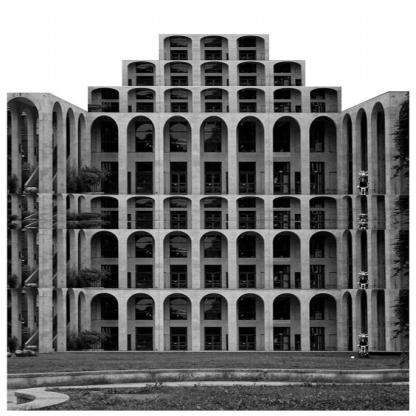Balcony: (7, 98, 39, 353), (371, 102, 386, 351), (52, 101, 63, 352), (356, 108, 367, 351), (342, 113, 353, 351), (399, 102, 409, 351), (66, 108, 76, 351), (310, 115, 338, 194), (237, 115, 265, 194), (127, 115, 155, 194), (91, 115, 119, 194), (200, 115, 228, 194), (164, 115, 192, 194), (273, 115, 301, 194), (78, 113, 86, 351), (310, 230, 337, 288), (200, 230, 227, 288), (236, 230, 263, 288), (164, 230, 191, 288), (91, 230, 118, 288), (127, 230, 154, 288), (273, 230, 300, 288), (310, 293, 337, 351), (200, 293, 227, 351), (236, 293, 263, 351), (164, 293, 191, 351), (127, 293, 154, 351), (273, 293, 300, 351), (91, 293, 118, 351), (273, 196, 301, 229), (309, 196, 337, 229), (236, 196, 264, 229), (164, 196, 192, 229), (200, 196, 228, 229), (91, 196, 118, 229), (127, 196, 154, 229), (201, 35, 229, 60), (164, 35, 192, 60), (238, 35, 266, 60), (91, 88, 119, 112), (310, 88, 338, 112), (128, 88, 156, 112), (201, 88, 229, 112), (164, 88, 192, 112), (238, 88, 266, 112), (274, 88, 302, 112), (128, 62, 156, 86), (201, 62, 229, 86), (164, 62, 192, 86), (238, 62, 266, 86), (274, 62, 302, 86)
Building Outline: (7, 34, 409, 354)
Door: (102, 335, 118, 351), (308, 335, 324, 351), (171, 335, 187, 351), (137, 335, 153, 351), (205, 335, 221, 351), (239, 335, 255, 351), (274, 335, 290, 351)
Facade: (7, 33, 410, 354)
Window: (101, 122, 119, 153), (239, 122, 257, 153), (306, 122, 324, 153), (272, 122, 290, 153), (136, 122, 153, 153), (170, 122, 187, 153), (204, 122, 221, 153), (306, 265, 323, 288), (102, 265, 119, 288), (238, 265, 255, 288), (273, 265, 290, 288), (170, 265, 187, 288), (136, 265, 153, 288), (306, 298, 323, 320), (102, 298, 119, 320), (238, 298, 255, 320), (273, 298, 290, 320), (170, 298, 187, 320), (136, 298, 153, 320), (306, 236, 323, 258), (102, 236, 119, 258), (238, 236, 255, 258), (273, 236, 290, 258), (170, 236, 187, 258), (136, 236, 153, 258), (205, 265, 221, 288), (205, 236, 221, 258), (205, 298, 221, 320), (306, 174, 323, 194), (102, 174, 119, 194), (239, 174, 256, 194), (273, 174, 290, 194), (170, 174, 187, 194), (136, 174, 153, 194), (306, 210, 323, 230), (102, 210, 119, 229), (239, 210, 256, 229), (273, 210, 290, 229), (170, 210, 187, 229), (136, 210, 153, 229), (205, 174, 221, 194), (205, 210, 221, 229), (306, 198, 323, 208), (102, 198, 119, 208), (239, 198, 256, 208), (273, 198, 290, 208), (170, 198, 187, 208), (136, 198, 153, 208), (171, 37, 188, 47), (205, 37, 222, 47), (239, 37, 256, 47), (102, 103, 119, 113), (171, 103, 188, 113), (137, 103, 154, 113), (205, 103, 222, 113), (239, 103, 256, 113), (275, 103, 292, 113), (309, 103, 326, 113), (102, 90, 119, 100), (171, 90, 188, 100), (137, 90, 154, 100), (205, 90, 222, 100), (239, 90, 256, 100), (275, 90, 292, 100), (309, 90, 326, 100), (171, 76, 188, 86), (137, 76, 154, 86), (205, 76, 222, 86), (239, 76, 256, 86), (275, 76, 292, 86), (171, 63, 188, 73), (137, 63, 154, 73), (205, 63, 222, 73), (239, 63, 256, 73), (275, 63, 292, 73), (171, 50, 188, 60), (205, 50, 222, 60), (239, 50, 256, 60), (306, 162, 323, 172), (102, 162, 119, 172), (239, 162, 256, 172), (273, 162, 290, 172), (170, 162, 187, 172), (136, 162, 153, 172), (205, 198, 221, 208), (205, 162, 221, 172), (102, 327, 118, 335), (308, 327, 324, 335), (171, 327, 187, 335), (137, 327, 153, 335), (205, 327, 221, 335), (239, 327, 255, 335), (274, 327, 290, 335)
